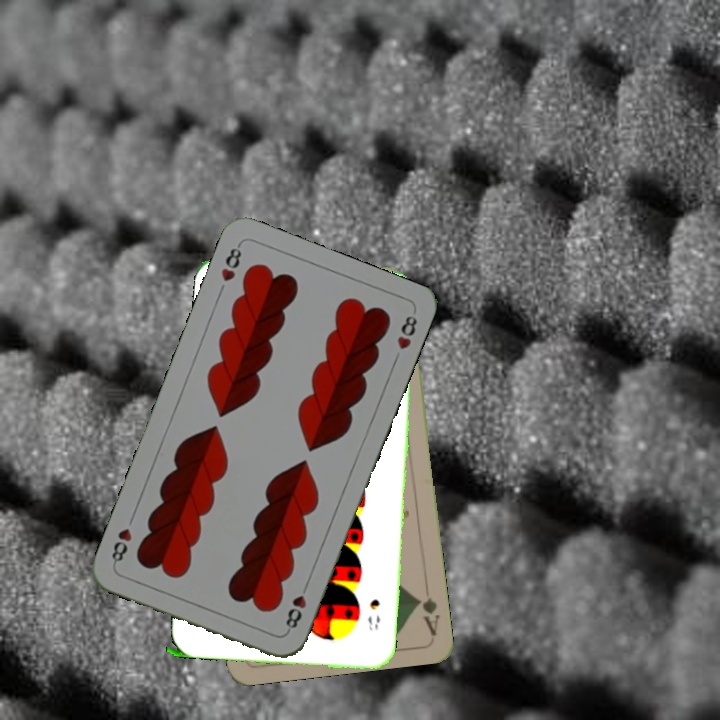GA: (413, 593, 442, 637)
H8: (281, 578, 312, 635), (217, 240, 245, 284)
S8: (363, 595, 383, 633)
